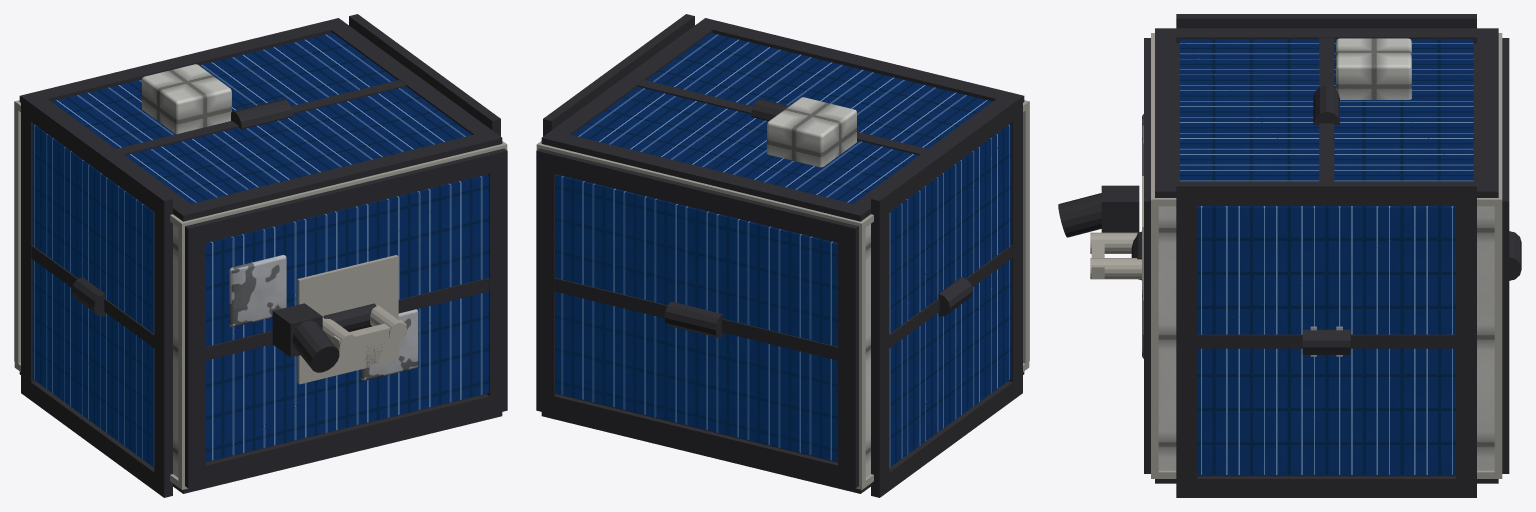
The model's file is rpo_demo_leo_client_proxy.glb.
3 renders of one model, left to right at view 1: azimuth 30°, elevation 25°; view 2: azimuth 150°, elevation 25°; view 3: azimuth 270°, elevation 25°, orthographic. The views are drawn at different scales.
Parts seen in each view (by area): view 1: solar_body_top, solar_body_right, solar_body_rear, servicing_0_grapple_fixture_zenith_grapple_pad, bus_frame, equip_0, patch_antenna_0, star_tracker_0, solar_body_front, patch_antenna_1, solar_body_left, bus; view 2: solar_body_bottom, solar_body_right, solar_body_rear, bus_frame, equip_0, solar_body_front, solar_body_left, bus; view 3: solar_body_front, solar_body_right, bus, bus_frame, equip_0, solar_body_rear, solar_body_bottom, star_tracker_0, solar_body_top, servicing_0_grapple_fixture_zenith_grapple_pad.
Boxes of the visible parts, box(x1,y1,x2,y2) form: solar_body_top: box(185, 148, 507, 488); solar_body_right: box(19, 18, 502, 221); solar_body_rear: box(21, 94, 172, 497); servicing_0_grapple_fixture_zenith_grapple_pad: box(297, 255, 407, 384); bus_frame: box(14, 100, 507, 489); equip_0: box(142, 64, 231, 134); patch_antenna_0: box(229, 255, 286, 326); star_tracker_0: box(272, 303, 339, 372); solar_body_front: box(349, 14, 500, 136); patch_antenna_1: box(360, 309, 418, 380); solar_body_left: box(19, 371, 502, 493); bus: box(173, 224, 178, 477); solar_body_bottom: box(536, 148, 858, 488); solar_body_right: box(541, 18, 1024, 221); solar_body_rear: box(871, 94, 1022, 497); bus_frame: box(536, 100, 1029, 489); equip_0: box(767, 97, 856, 167); solar_body_front: box(543, 14, 694, 136); solar_body_left: box(541, 371, 1024, 493); bus: box(865, 224, 870, 477); solar_body_front: box(1176, 182, 1476, 497); solar_body_right: box(1155, 28, 1498, 197); bus: box(1158, 206, 1494, 470); bus_frame: box(1151, 33, 1502, 478); equip_0: box(1336, 38, 1411, 99); solar_body_rear: box(1176, 14, 1476, 28); solar_body_bottom: box(1502, 38, 1521, 473); star_tracker_0: box(1058, 185, 1139, 237); solar_body_top: box(1131, 38, 1150, 473); servicing_0_grapple_fixture_zenith_grapple_pad: box(1090, 176, 1143, 290).
Bounding box in the file's own units: 1.01 × 0.8611 × 1.08.
Materials: 5 (3 with a texture image).
